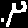p: (0, 0, 28, 28)
